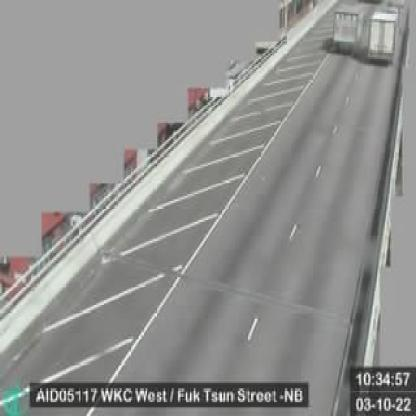Truck: (330, 0, 369, 52), (362, 5, 398, 61)
